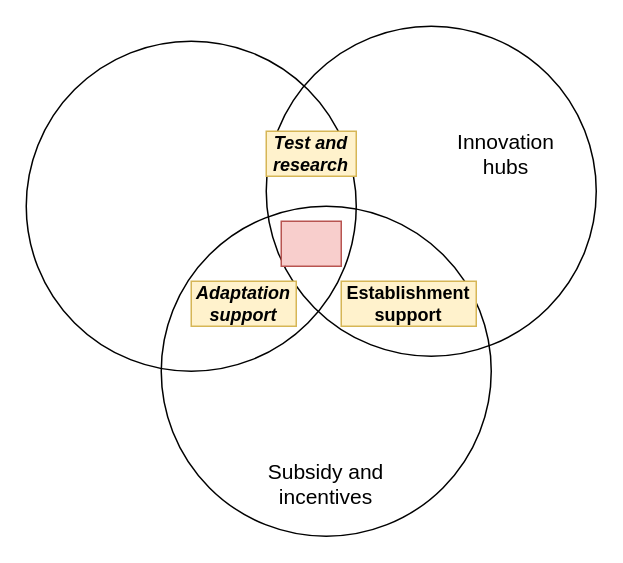
The diagram is 623 pixels wide and 563 high, and some of its shapes have lost their labels. The shapes that lost their labels are listed below. From the top down, each one's centre as x and y in pixels, then its label:
the point at 190,205: Standarised solutions from government
the point at 310,243: Tech- up
